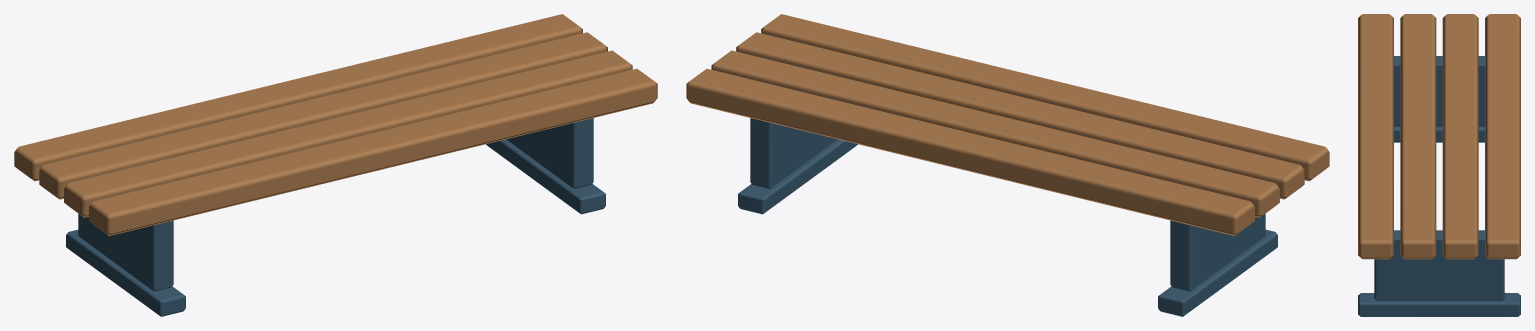
File: CM_Prop_Bench.fbx
3 renders of one model, left to right at view 1: azimuth 30°, elevation 25°; view 2: azimuth 150°, elevation 25°; view 3: azimuth 270°, elevation 25°, orthographic. The views are drawn at different scales.
Visible parts, largest first — view 1: Body; view 2: Body; view 3: Body.
Boxes of the visible parts, x1=… form: Body: x1=14, y1=14, x2=657, y2=316; Body: x1=686, y1=14, x2=1329, y2=316; Body: x1=1358, y1=14, x2=1520, y2=316.
Bounding box in the file's own units: 10 × 3 × 2.
Materials: 1 (1 with a texture image).
